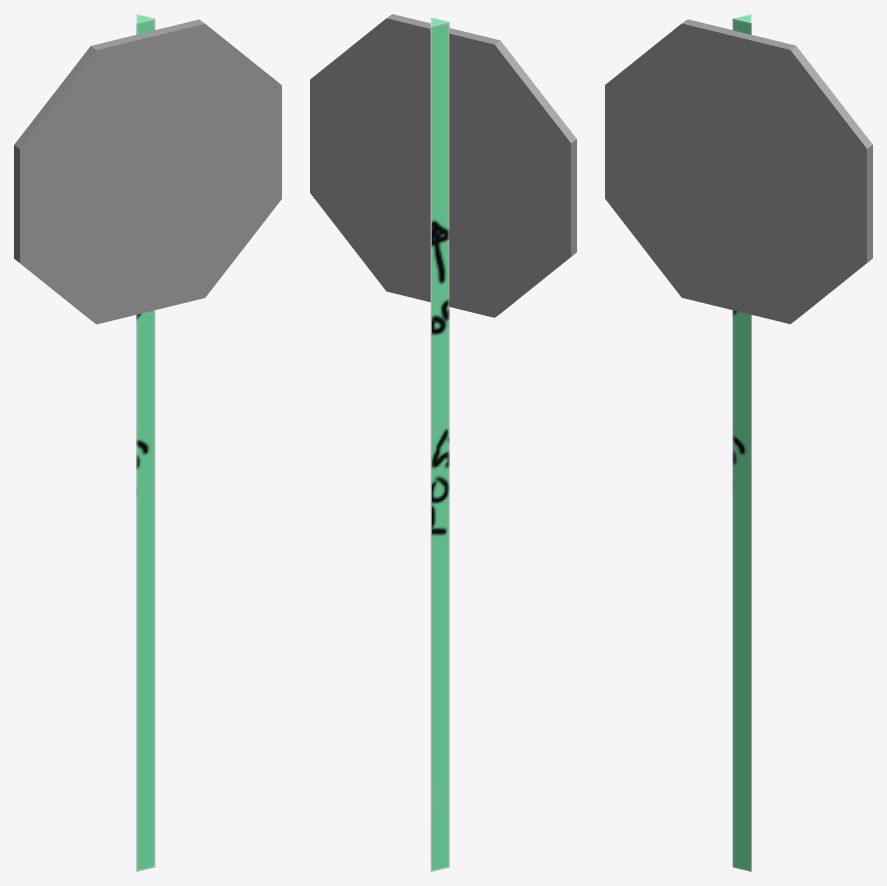
The model's file is env_streetSign_c.fbx.
3 renders of one model, left to right at view 1: azimuth 30°, elevation 25°; view 2: azimuth 150°, elevation 25°; view 3: azimuth 330°, elevation 25°, orthographic.
Parts seen in each view (by area): view 1: sign_c; view 2: sign_c; view 3: sign_c.
Part boxes in pixels (<box>): sign_c: <box>14,14,281,871</box>; sign_c: <box>310,14,576,871</box>; sign_c: <box>605,14,872,871</box>.
Size of the model in its own units: 12.93 by 40.02 by 1.3.
